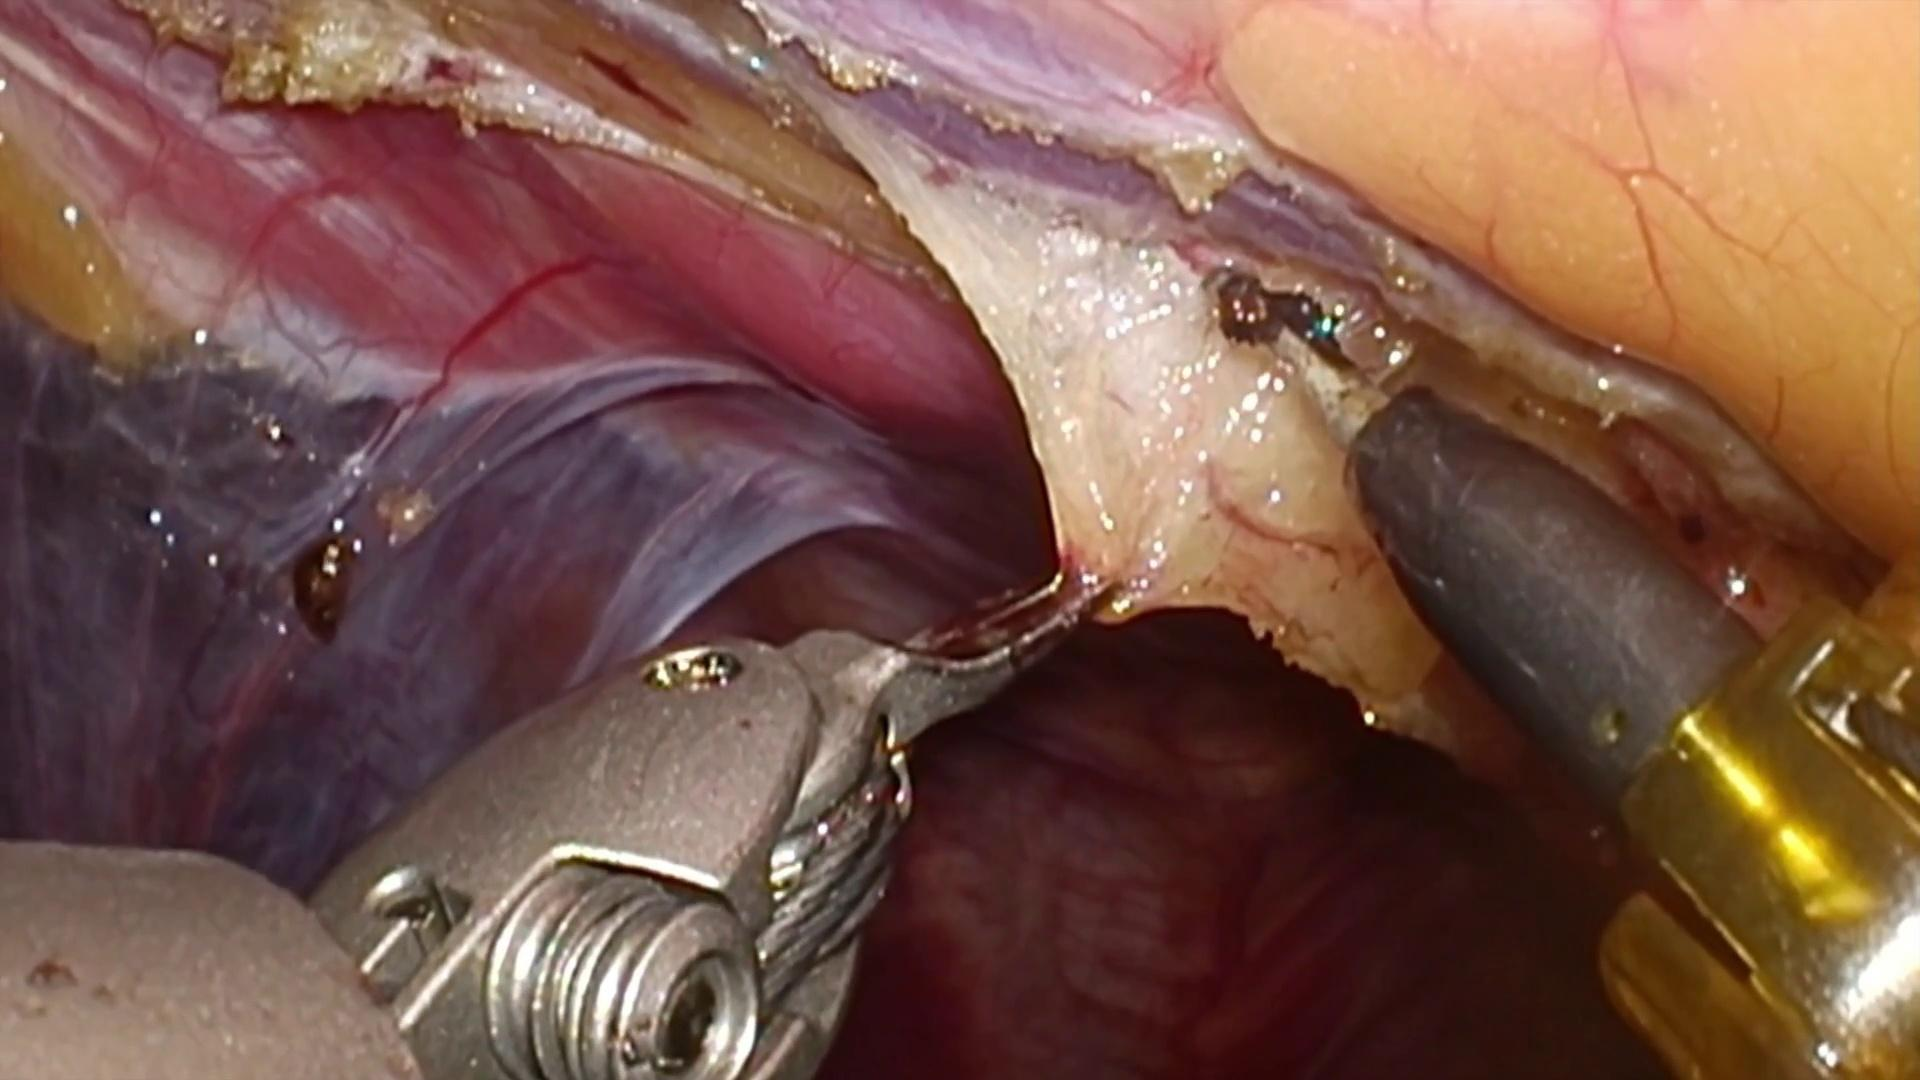Cautery_Spatula: (1226, 281, 1767, 816)
Debakey: (796, 560, 1125, 775)
